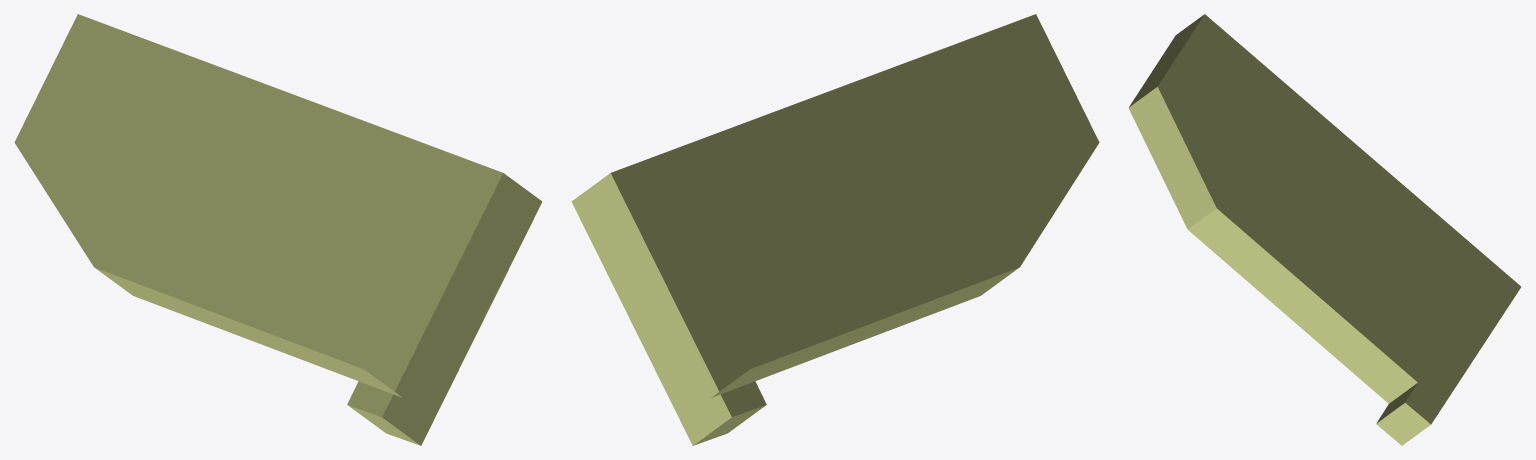
3 views of the same model, side by side, from view 1: azimuth 30°, elevation 25°; view 2: azimuth 150°, elevation 25°; view 3: azimuth 330°, elevation 25° (orthographic). The views are drawn at different scales.
Visible parts, largest first — view 1: 0_1_3_2_2_1_3_2_1; view 2: 0_1_3_2_2_1_3_2_1; view 3: 0_1_3_2_2_1_3_2_1.
Part boxes in pixels (bbox=[...]): 0_1_3_2_2_1_3_2_1: bbox=[14, 14, 542, 445]; 0_1_3_2_2_1_3_2_1: bbox=[571, 14, 1099, 445]; 0_1_3_2_2_1_3_2_1: bbox=[1128, 14, 1521, 445].
Bounding box in the file's own units: 43.25 × 40.37 × 6.
